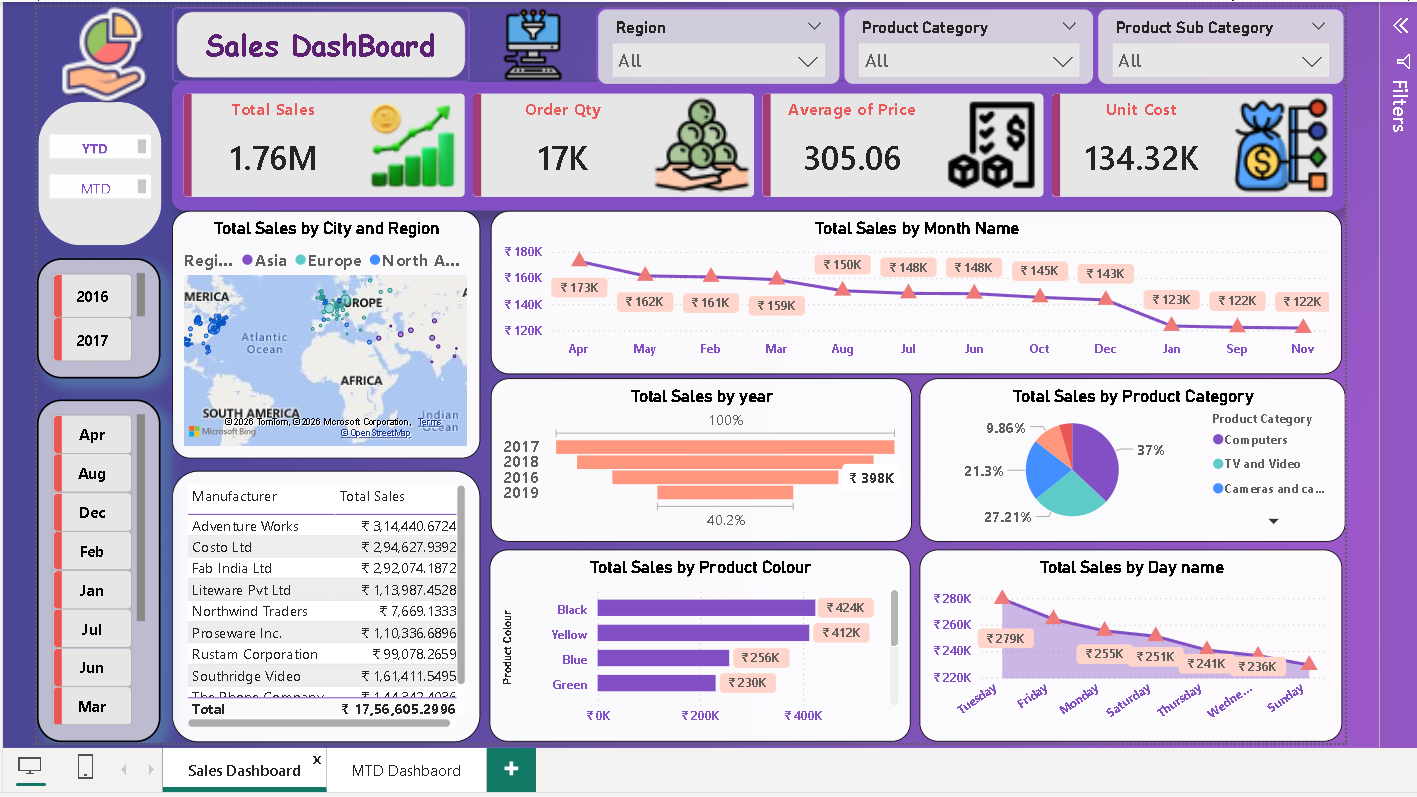

Layout of this report page (visuals, bound fields, positions):
{"tool":"powerbi","page":{"name":"Sales Dashboard ","canvas":[1280,720],"ordinal":0},"visuals":[{"type":"advancedSlicerVisual","fields":{"Values":["DateTbl.year"]},"box":[0,245.8,121.1,117.4],"z":1000},{"type":"shape","box":[1.2,93.5,120.5,140.2],"z":2000},{"type":"cardVisual","fields":{"Data":["SalesData.Total Sales","Sum(SalesData.Order Qty)","Avg(SalesData.Price)","Sum(SalesData.Unit Cost)"]},"box":[131.6,73.8,1148.7,125.4],"z":3000},{"type":"slicer","fields":{"Values":["SalesData.Region"]},"box":[547,0,240.5,77.6],"z":4000},{"type":"tableEx","fields":{"Values":["SalesData.Manufacturer","SalesData.Total Sales"]},"box":[131.6,453.8,301.3,265.6],"z":5000},{"type":"slicer","fields":{"Values":["SalesData.Product Category"]},"box":[787.6,0,248.3,77.6],"z":6000},{"type":"slicer","fields":{"Values":["SalesData.Product Sub Category"]},"box":[1035.8,0,244.4,77.6],"z":7000},{"type":"funnel","fields":{"Category":["DateTbl.year"],"Y":["SalesData.Total Sales"]},"box":[444,362.8,412,159.9],"z":8000},{"type":"lineChart","fields":{"Category":["DateTbl.Month Name"],"Y":["SalesData.Total Sales"]},"box":[444,199.2,832.6,159.9],"z":9000},{"type":"pieChart","fields":{"Y":["SalesData.Total Sales"],"Category":["SalesData.Product Category"]},"box":[863.3,362.8,416.9,159.9],"z":10000},{"type":"stackedAreaChart","fields":{"Category":["DateTbl.Day name"],"Y":["SalesData.Total Sales"]},"box":[863.3,531.3,413.2,188.2],"z":11000},{"type":"clusteredBarChart","fields":{"Category":["SalesData.Product Colour"],"Y":["SalesData.Total Sales"]},"box":[442.7,531.3,412,188.2],"z":12000},{"type":"map","fields":{"Size":["SalesData.Total Sales"],"Series":["SalesData.Region"],"Category":["SalesData.City"]},"box":[131.6,199.2,301.3,242.3],"z":13000},{"type":"image","box":[423.1,0,124.2,73.8],"z":14000},{"type":"shape","box":[131.6,0,291.5,73.8],"z":15000},{"type":"image","box":[0,0,131.6,93.5],"z":16000},{"type":"textbox","box":[12.2,124.7,99,23.2],"z":17000},{"type":"textbox","box":[12.2,163.9,99,23.2],"z":18000},{"type":"advancedSlicerVisual","fields":{"Values":["DateTbl.Month Name"]},"box":[0,384,121.1,335.1],"z":19000}]}

Visuals, with their boxes on the page's 1280x720 design canvas (x1, y1, x2, y2). These are canvas units, not pixel positions in the 1417x797 screenshot, which may show the page scaled, cropped or inside an application window:
advancedSlicerVisual - DateTbl.year: bbox=[0, 246, 121, 363]
shape: bbox=[1, 94, 122, 234]
cardVisual - SalesData.Total Sales x Sum(SalesData.Order Qty): bbox=[132, 74, 1280, 199]
slicer - SalesData.Region: bbox=[547, 0, 788, 78]
tableEx - SalesData.Manufacturer x SalesData.Total Sales: bbox=[132, 454, 433, 719]
slicer - SalesData.Product Category: bbox=[788, 0, 1036, 78]
slicer - SalesData.Product Sub Category: bbox=[1036, 0, 1280, 78]
funnel - DateTbl.year x SalesData.Total Sales: bbox=[444, 363, 856, 523]
lineChart - DateTbl.Month Name x SalesData.Total Sales: bbox=[444, 199, 1277, 359]
pieChart - SalesData.Total Sales x SalesData.Product Category: bbox=[863, 363, 1280, 523]
stackedAreaChart - DateTbl.Day name x SalesData.Total Sales: bbox=[863, 531, 1276, 720]
clusteredBarChart - SalesData.Product Colour x SalesData.Total Sales: bbox=[443, 531, 855, 720]
map - SalesData.Total Sales x SalesData.Region: bbox=[132, 199, 433, 442]
image: bbox=[423, 0, 547, 74]
shape: bbox=[132, 0, 423, 74]
image: bbox=[0, 0, 132, 94]
textbox: bbox=[12, 125, 111, 148]
textbox: bbox=[12, 164, 111, 187]
advancedSlicerVisual - DateTbl.Month Name: bbox=[0, 384, 121, 719]
